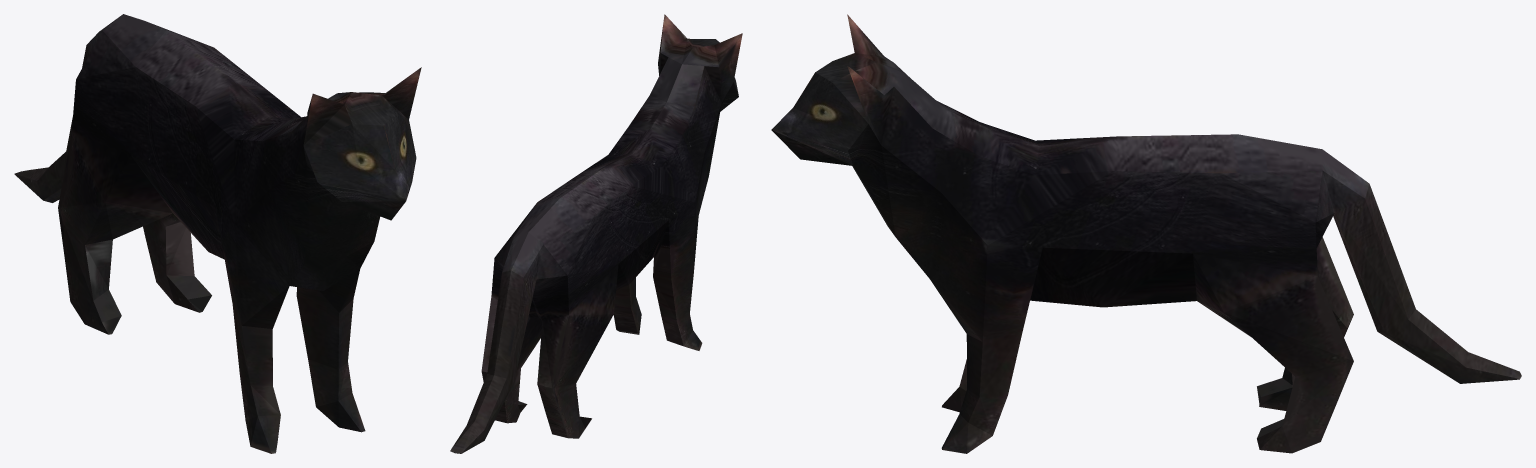
File: cat_black.glb
3 views of the same model, side by side, from view 1: azimuth 30°, elevation 25°; view 2: azimuth 150°, elevation 25°; view 3: azimuth 270°, elevation 25° (orthographic). The views are drawn at different scales.
Parts seen in each view (by area): view 1: ORIGAMI_Chat; view 2: ORIGAMI_Chat; view 3: ORIGAMI_Chat.
Part boxes in pixels (x1,y1,x2,y2): ORIGAMI_Chat: (14,14,421,453); ORIGAMI_Chat: (450,14,742,453); ORIGAMI_Chat: (771,14,1521,453).
Bounding box in the file's own units: 12.69 × 35.28 × 61.89.
1 material, 1 textured.
